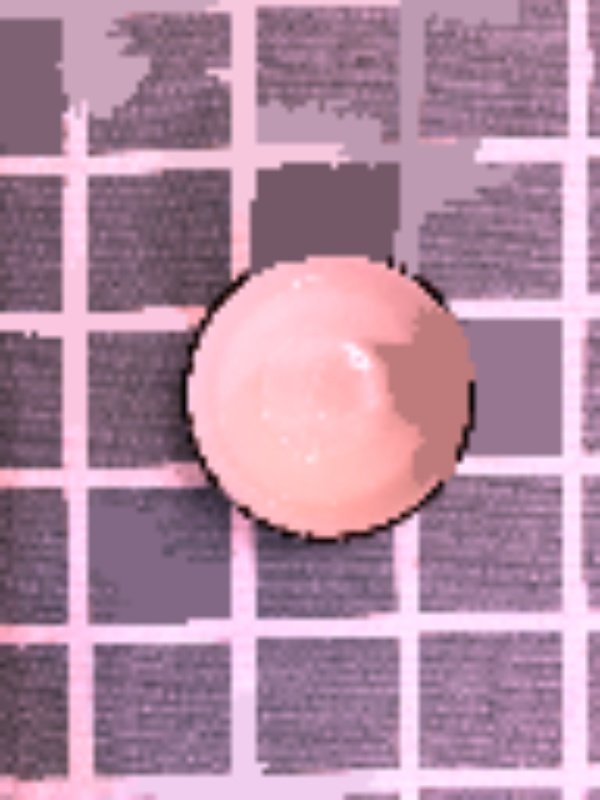bowl_small: (173, 238, 483, 552)
